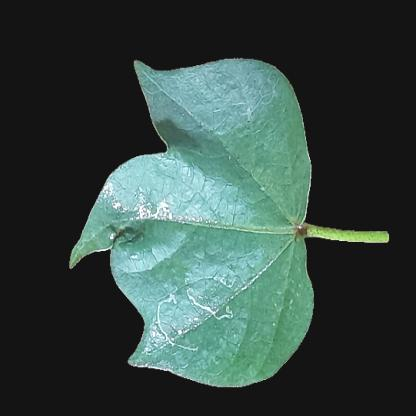healthy: (139, 163, 297, 312), (170, 78, 294, 160), (164, 316, 275, 378)
